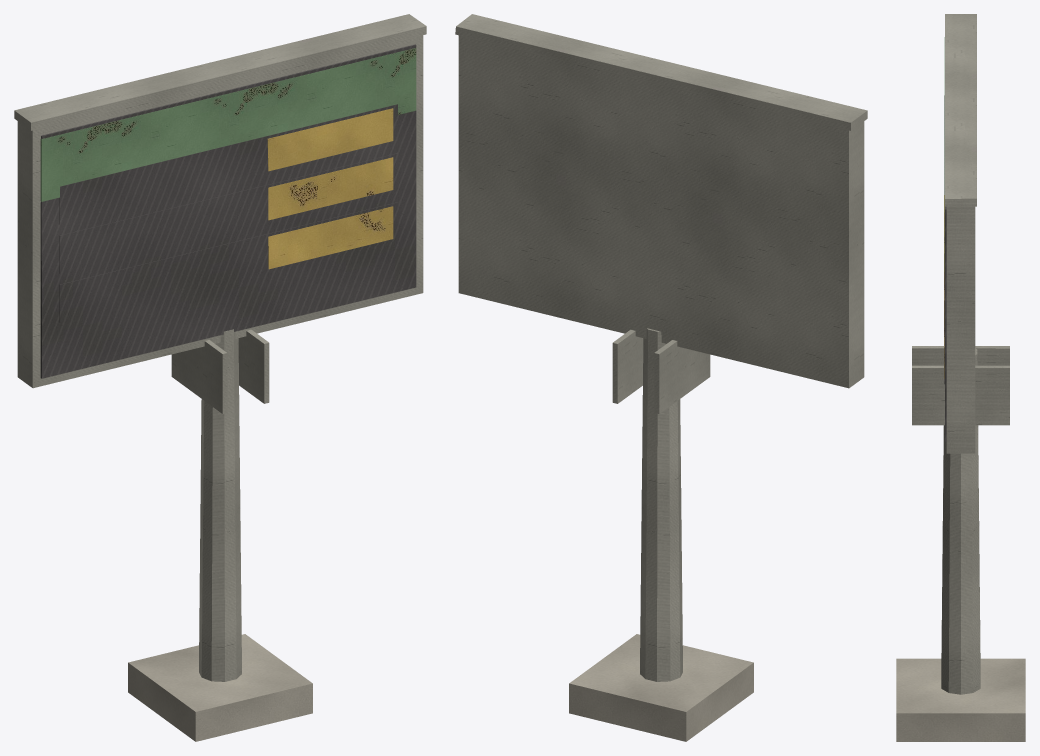
The model's file is roadsign_v2.glb.
3 views of the same model, side by side, from view 1: azimuth 30°, elevation 25°; view 2: azimuth 150°, elevation 25°; view 3: azimuth 270°, elevation 25° (orthographic). The views are drawn at different scales.
Parts seen in each view (by area): view 1: Variant_roadsign_2; view 2: Variant_roadsign_2; view 3: Variant_roadsign_2.
Boxes of the visible parts, left/top/right/bottom form: Variant_roadsign_2: left=14, top=14, right=426, bottom=741; Variant_roadsign_2: left=455, top=14, right=867, bottom=741; Variant_roadsign_2: left=896, top=14, right=1025, bottom=741.
Bounding box in the file's own units: 3.04 × 4.66 × 0.9.
5 materials, 5 textured.
